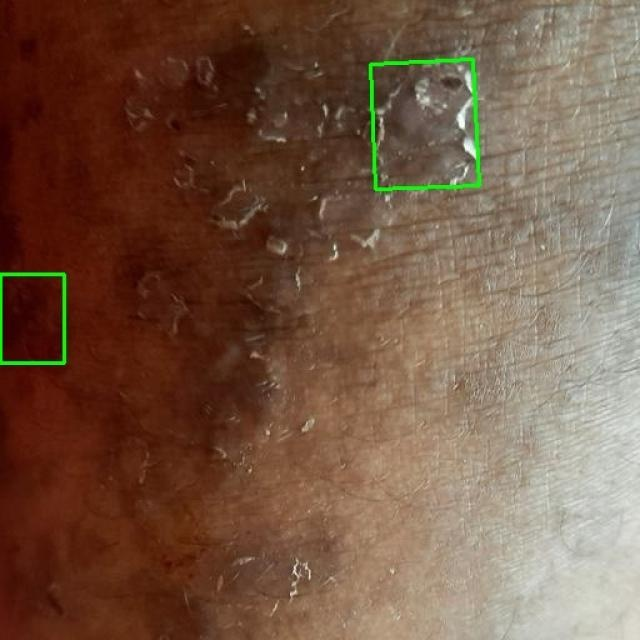Tinea Corporis: (370, 59, 479, 190), (0, 274, 64, 362)
